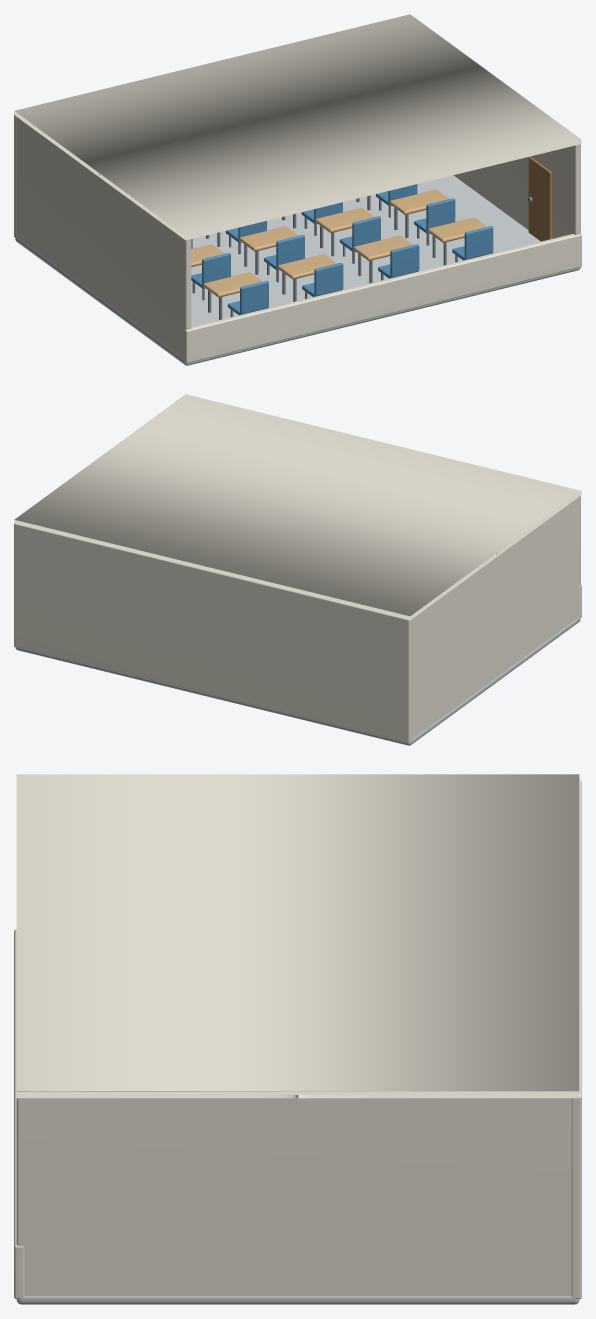
The model's file is classroom.glb.
3 views of the same model, one above another, from view 1: azimuth 30°, elevation 25°; view 2: azimuth 150°, elevation 25°; view 3: azimuth 270°, elevation 25° (orthographic). The views are drawn at different scales.
Visible parts, largest first — view 1: Ceiling canopy, Left wall, Classroom floor, Front low wall, Right wall, Door panel, Student chair 1-2 back, Student chair 1-4 back, Student chair 1-3 back, Student chair 1-1 back, Student desk 1-3 top, Student desk 2-2 top (+9 smaller); view 2: Ceiling canopy, Back wall, Left wall, Classroom floor; view 3: Ceiling canopy, Right wall, Classroom floor, Back wall, Front low wall.
Part boxes in pixels (left/top/right/bottom): Ceiling canopy: left=14, top=14, right=581, bottom=240; Left wall: left=17, top=117, right=191, bottom=358; Classroom floor: left=15, top=175, right=580, bottom=365; Front low wall: left=183, top=233, right=581, bottom=363; Right wall: left=453, top=144, right=580, bottom=238; Door panel: left=528, top=156, right=551, bottom=241; Student chair 1-2 back: left=314, top=262, right=343, bottom=296; Student chair 1-4 back: left=464, top=226, right=493, bottom=259; Student chair 1-3 back: left=390, top=244, right=419, bottom=277; Student chair 1-1 back: left=240, top=281, right=268, bottom=314; Student desk 1-3 top: left=353, top=235, right=412, bottom=260; Student desk 2-2 top: left=239, top=226, right=298, bottom=251; Ceiling canopy: left=14, top=394, right=581, bottom=620; Back wall: left=14, top=523, right=412, bottom=743; Left wall: left=412, top=496, right=580, bottom=738; Classroom floor: left=15, top=617, right=580, bottom=745; Ceiling canopy: left=16, top=774, right=579, bottom=1098; Right wall: left=16, top=1098, right=571, bottom=1295; Classroom floor: left=16, top=1296, right=579, bottom=1304; Back wall: left=571, top=780, right=581, bottom=1299; Front low wall: left=14, top=929, right=24, bottom=1299.
Size of the model in its own units: 12 by 3.79 by 9.08.
